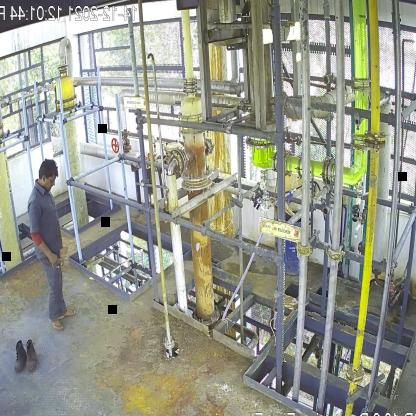no_shoes: (55, 303, 77, 323), (50, 321, 63, 332)
shoes: (13, 340, 25, 372), (27, 340, 37, 370)
